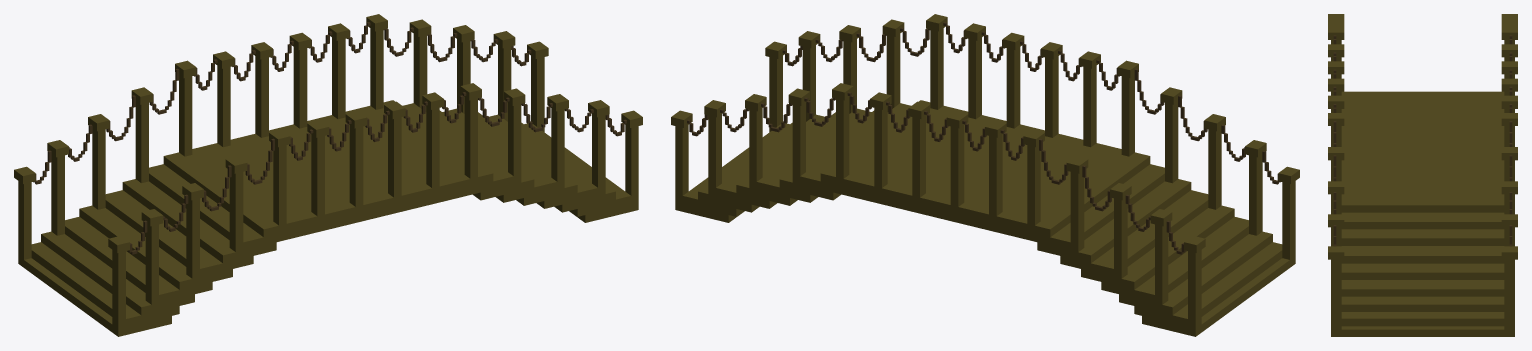
Rendered from wooden bridge.FBX.
3 renders of one model, left to right at view 1: azimuth 30°, elevation 25°; view 2: azimuth 150°, elevation 25°; view 3: azimuth 270°, elevation 25°, orthographic. The views are drawn at different scales.
Visible parts, largest first — view 1: wooden bridge; view 2: wooden bridge; view 3: wooden bridge.
Part boxes in pixels (x1,y1,x2,y2): wooden bridge: (14,14,642,336); wooden bridge: (671,14,1299,336); wooden bridge: (1328,14,1517,336).
Size of the model in its own units: 20.6 by 6 by 7.
1 material, 1 textured.
